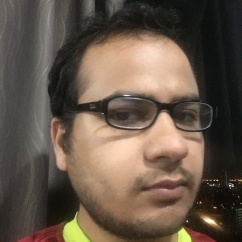glasses: (67, 98, 217, 131)
